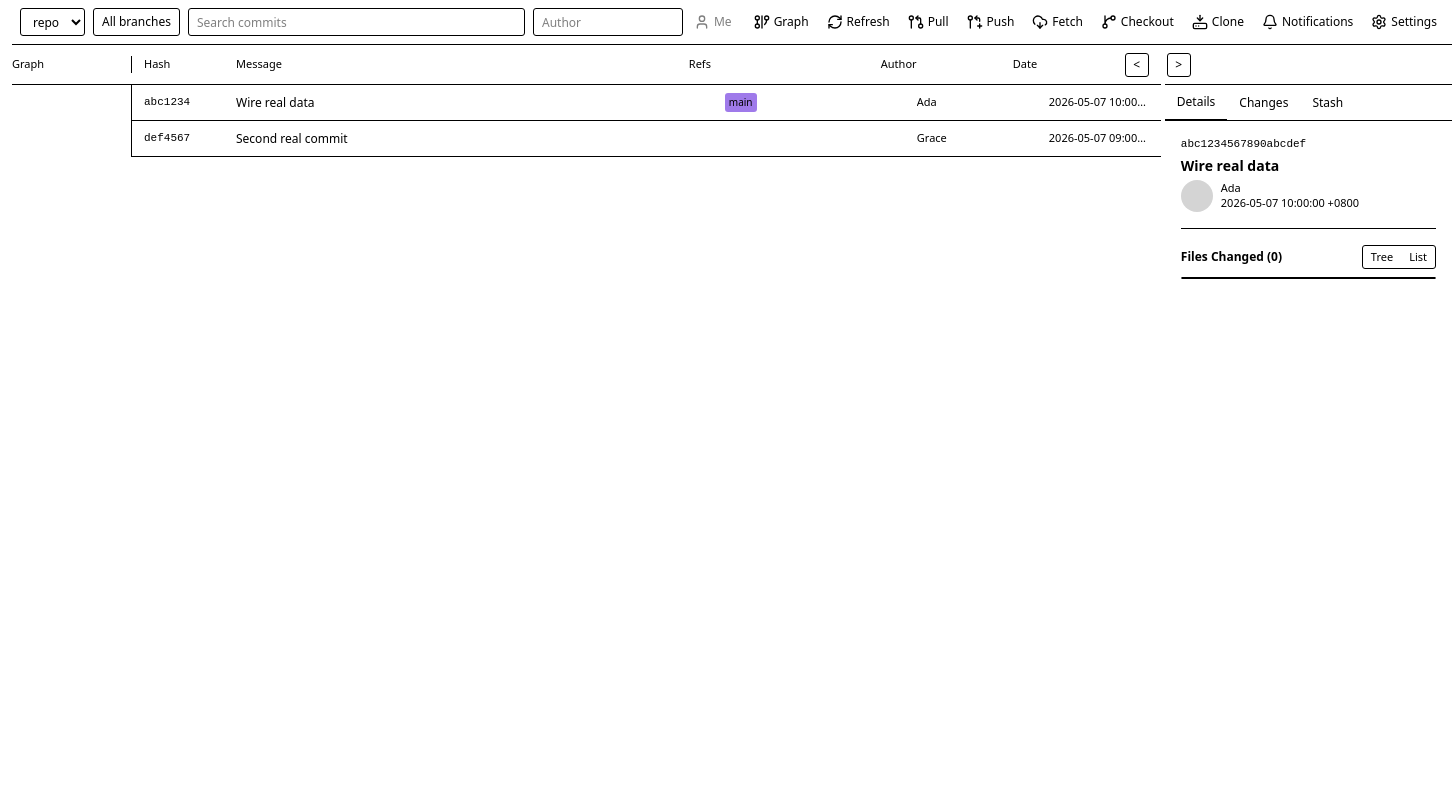
Scenario: App › keeps older working tree load responses from replacing newer action changes
The width and height of the screenshot is (1452, 810).
Click the tab "Changes" at point(1264, 102), box top-left (1227, 85), bottom-right (1300, 120)
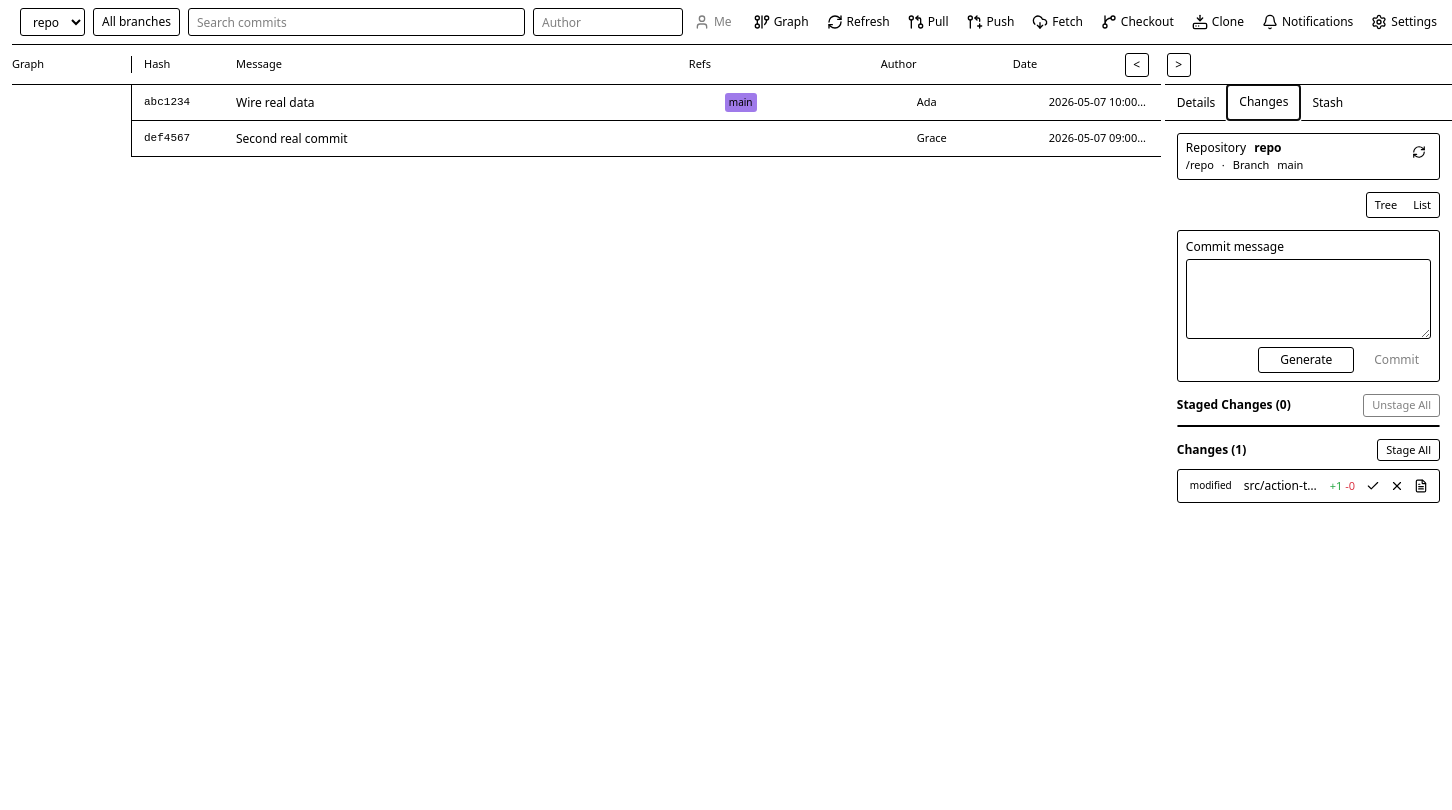
Click the button named "Stage src/action-target.ts" at point(1373, 486), box top-left (1363, 476), bottom-right (1383, 496)
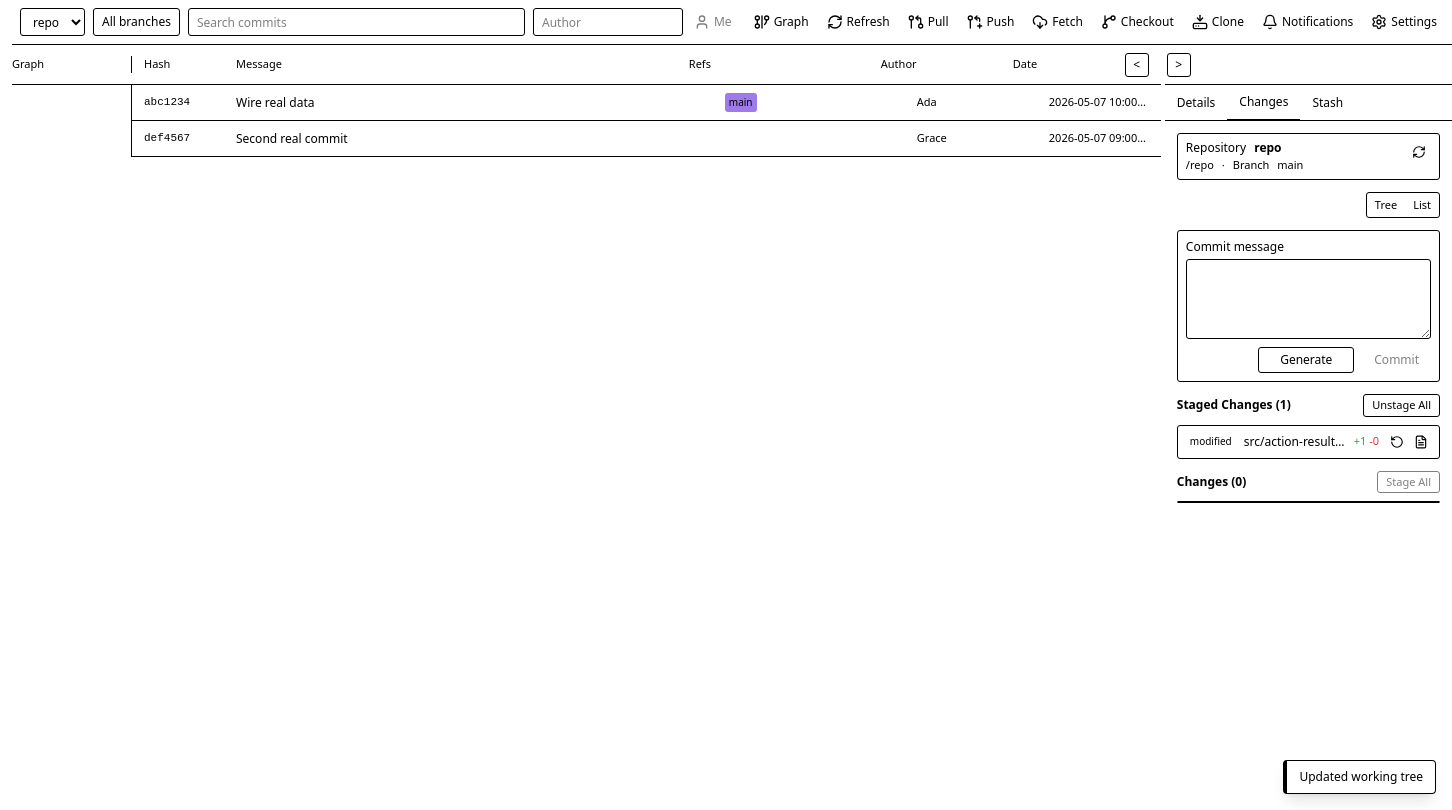
Expected: the button "src/action-result.ts" is shown, top-left (1244, 434), bottom-right (1346, 450)
